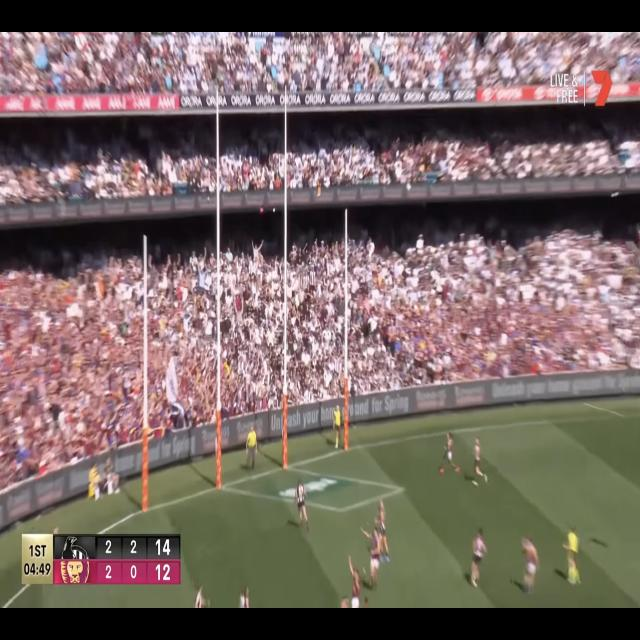crowd: (350, 211, 640, 395), (0, 33, 638, 93), (0, 227, 141, 485), (285, 101, 640, 189), (0, 118, 216, 200), (148, 220, 217, 433), (219, 217, 283, 416), (287, 213, 346, 404), (219, 112, 284, 191)
